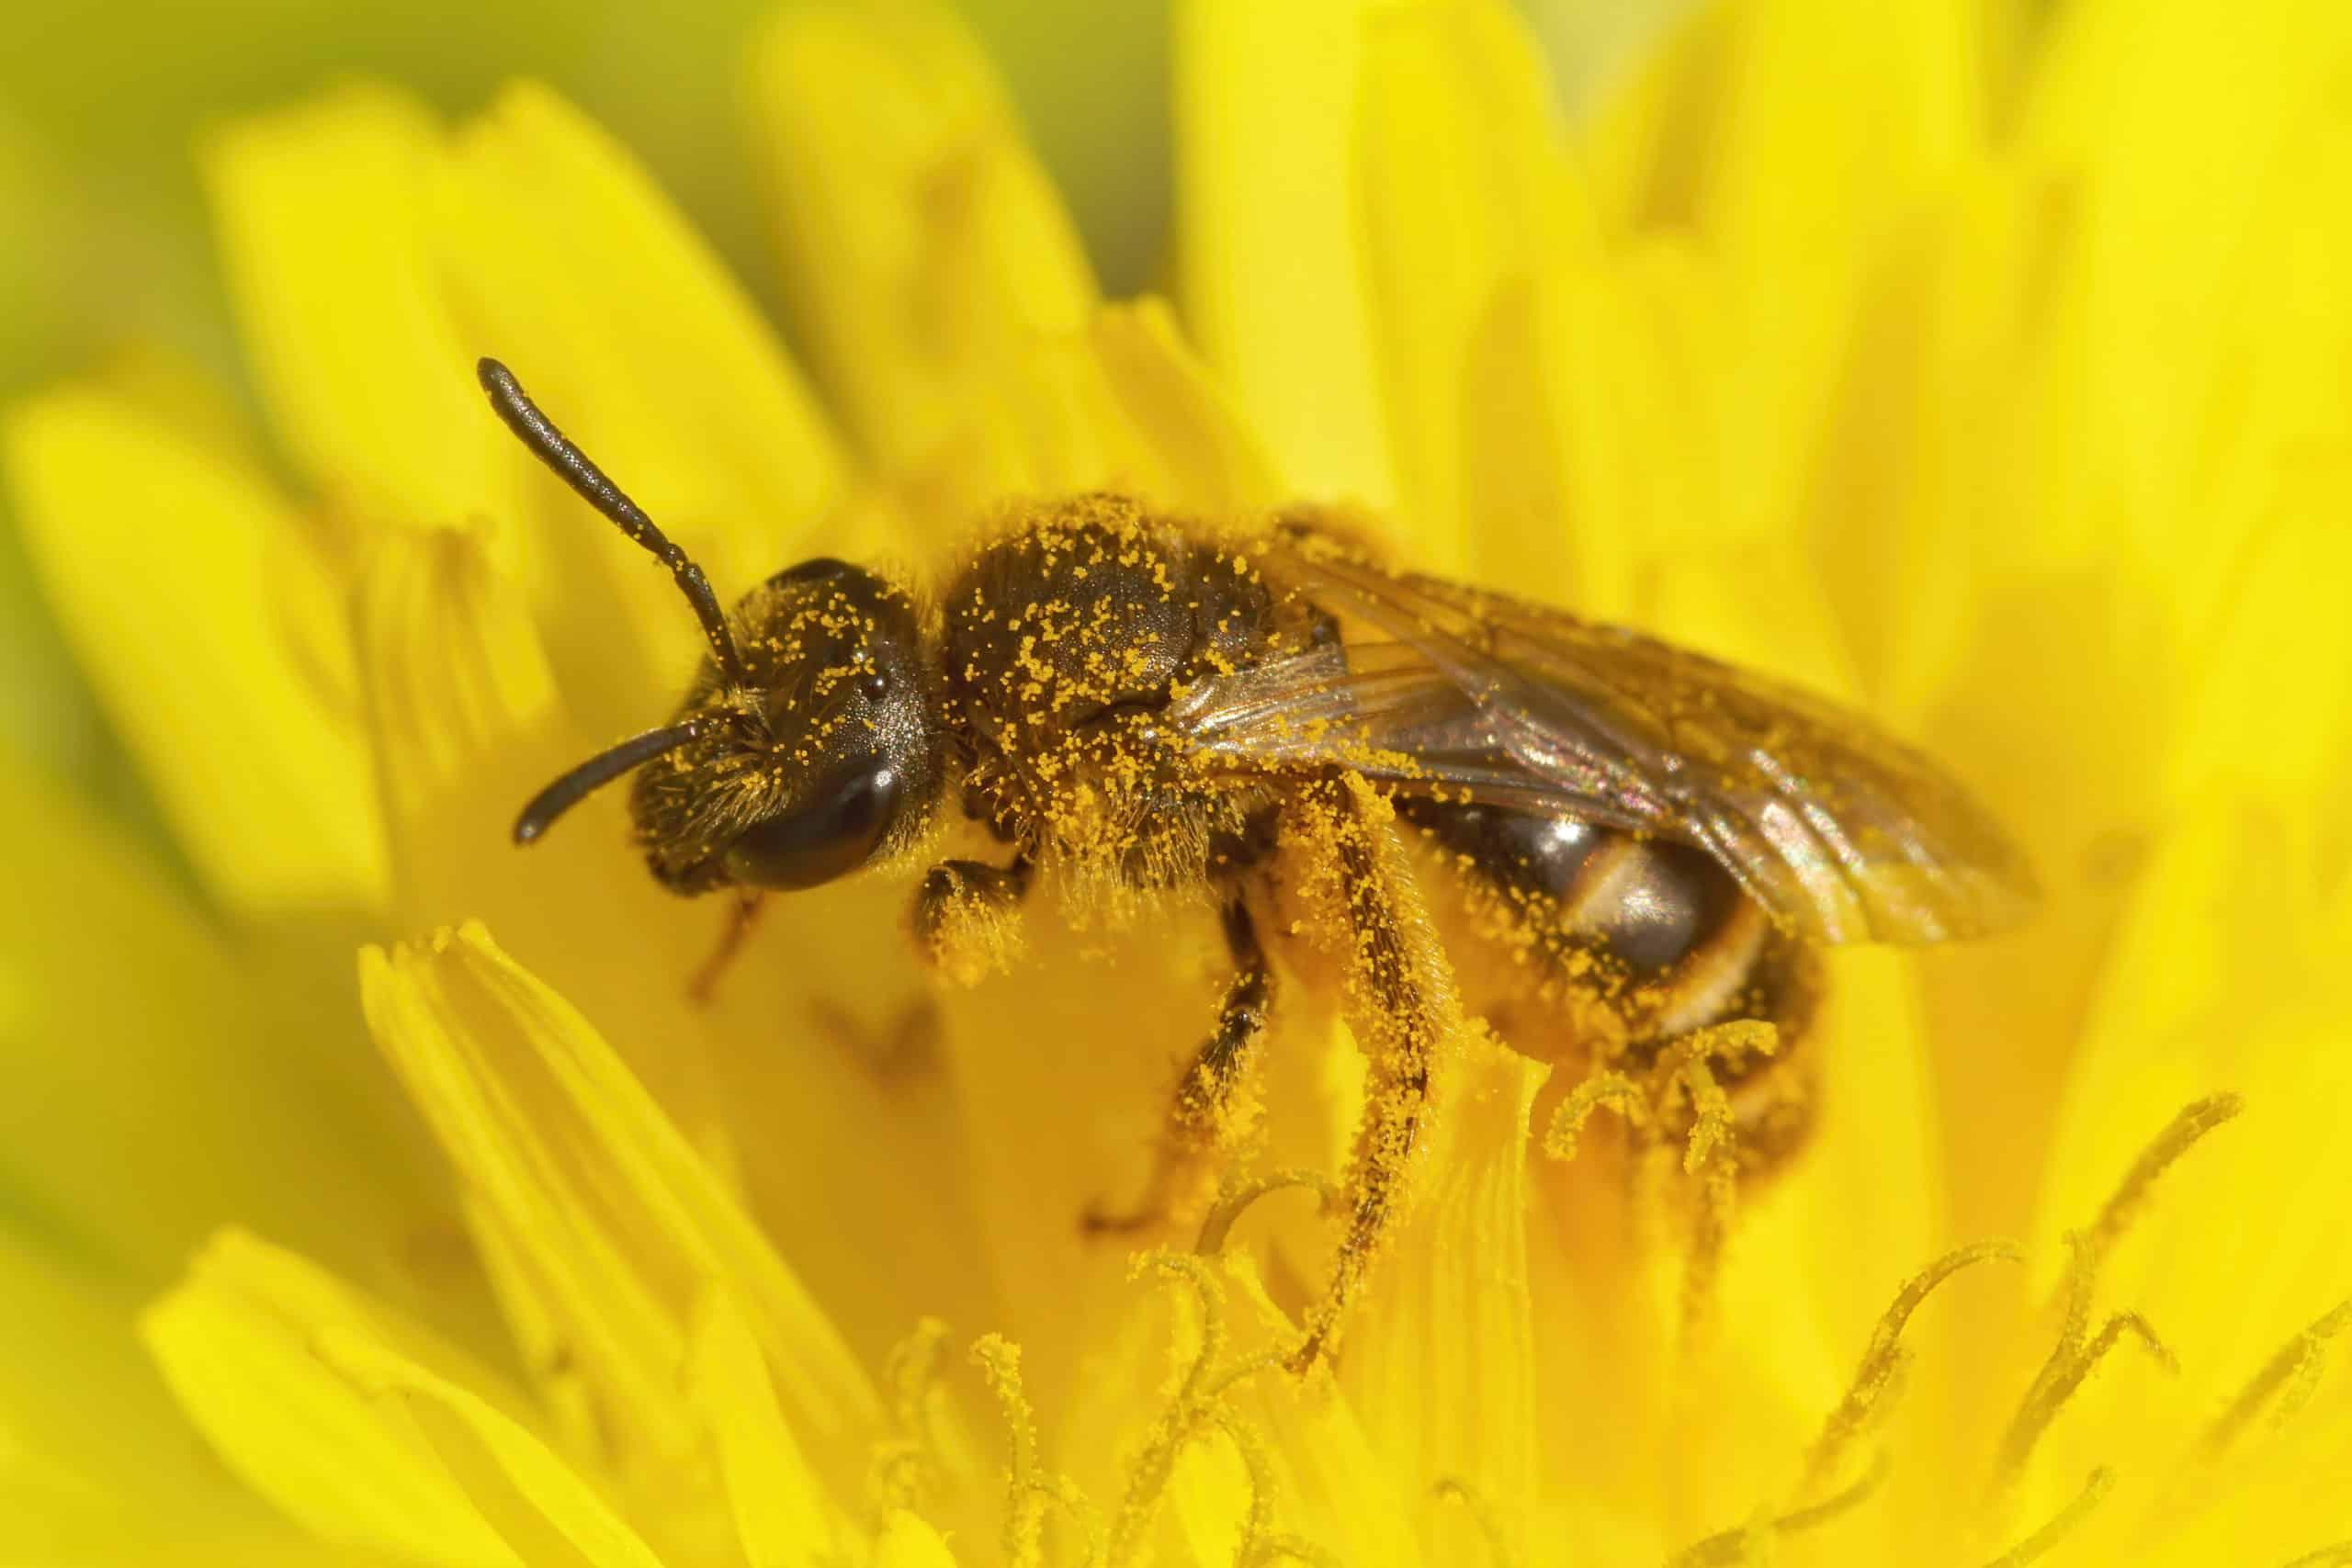Lasioglossum: (455, 308, 2075, 1307)
